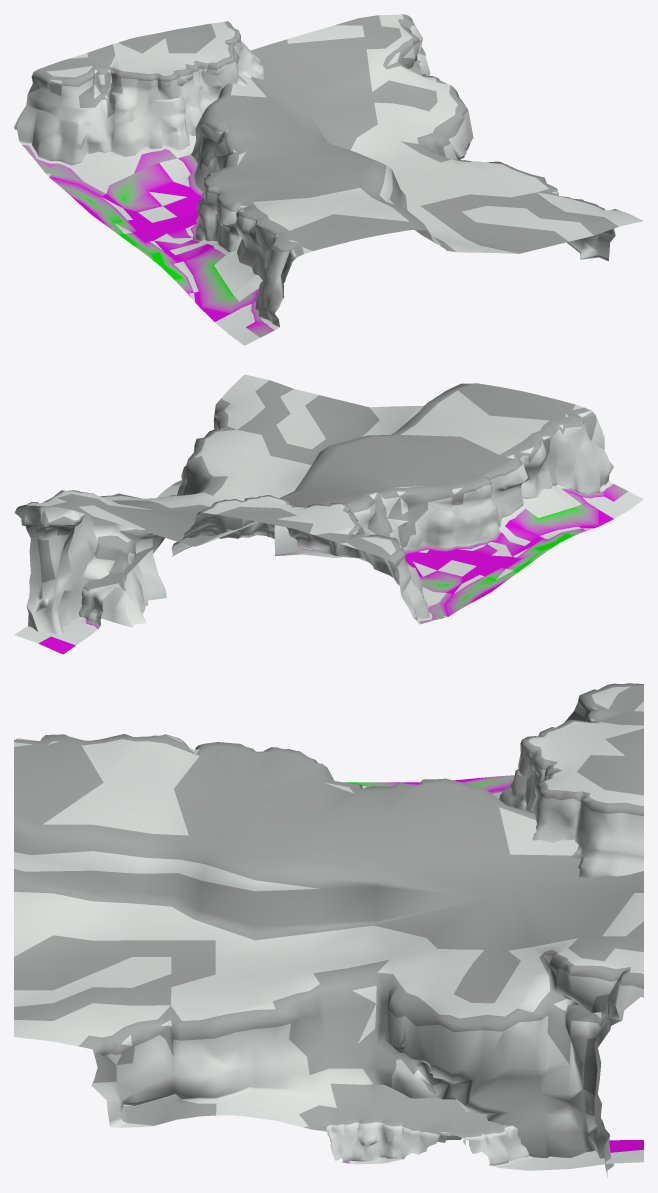
The picture shows the model from 3 angles, top to bottom: view 1: azimuth 30°, elevation 25°; view 2: azimuth 150°, elevation 25°; view 3: azimuth 270°, elevation 25°; orthographic projection. The views are drawn at different scales.
Visible parts, largest first — view 1: G:\FFXIV-MapTools\exports\f1f1\bg\ffxiv\fst_f1\fld\f1f1\bgpl (×12); view 2: G:\FFXIV-MapTools\exports\f1f1\bg\ffxiv\fst_f1\fld\f1f1\bgpl (×13); view 3: G:\FFXIV-MapTools\exports\f1f1\bg\ffxiv\fst_f1\fld\f1f1\bgpl (×10).
Part boxes in pixels (bbox=[...]): G:\FFXIV-MapTools\exports\f1f1\bg\ffxiv\fst_f1\fld\f1f1\bgpl (×12): bbox=[14, 14, 643, 345]; G:\FFXIV-MapTools\exports\f1f1\bg\ffxiv\fst_f1\fld\f1f1\bgpl (×13): bbox=[14, 374, 643, 654]; G:\FFXIV-MapTools\exports\f1f1\bg\ffxiv\fst_f1\fld\f1f1\bgpl (×10): bbox=[14, 683, 643, 1177].
Bounding box in the file's own units: 128 × 57.56 × 128.
